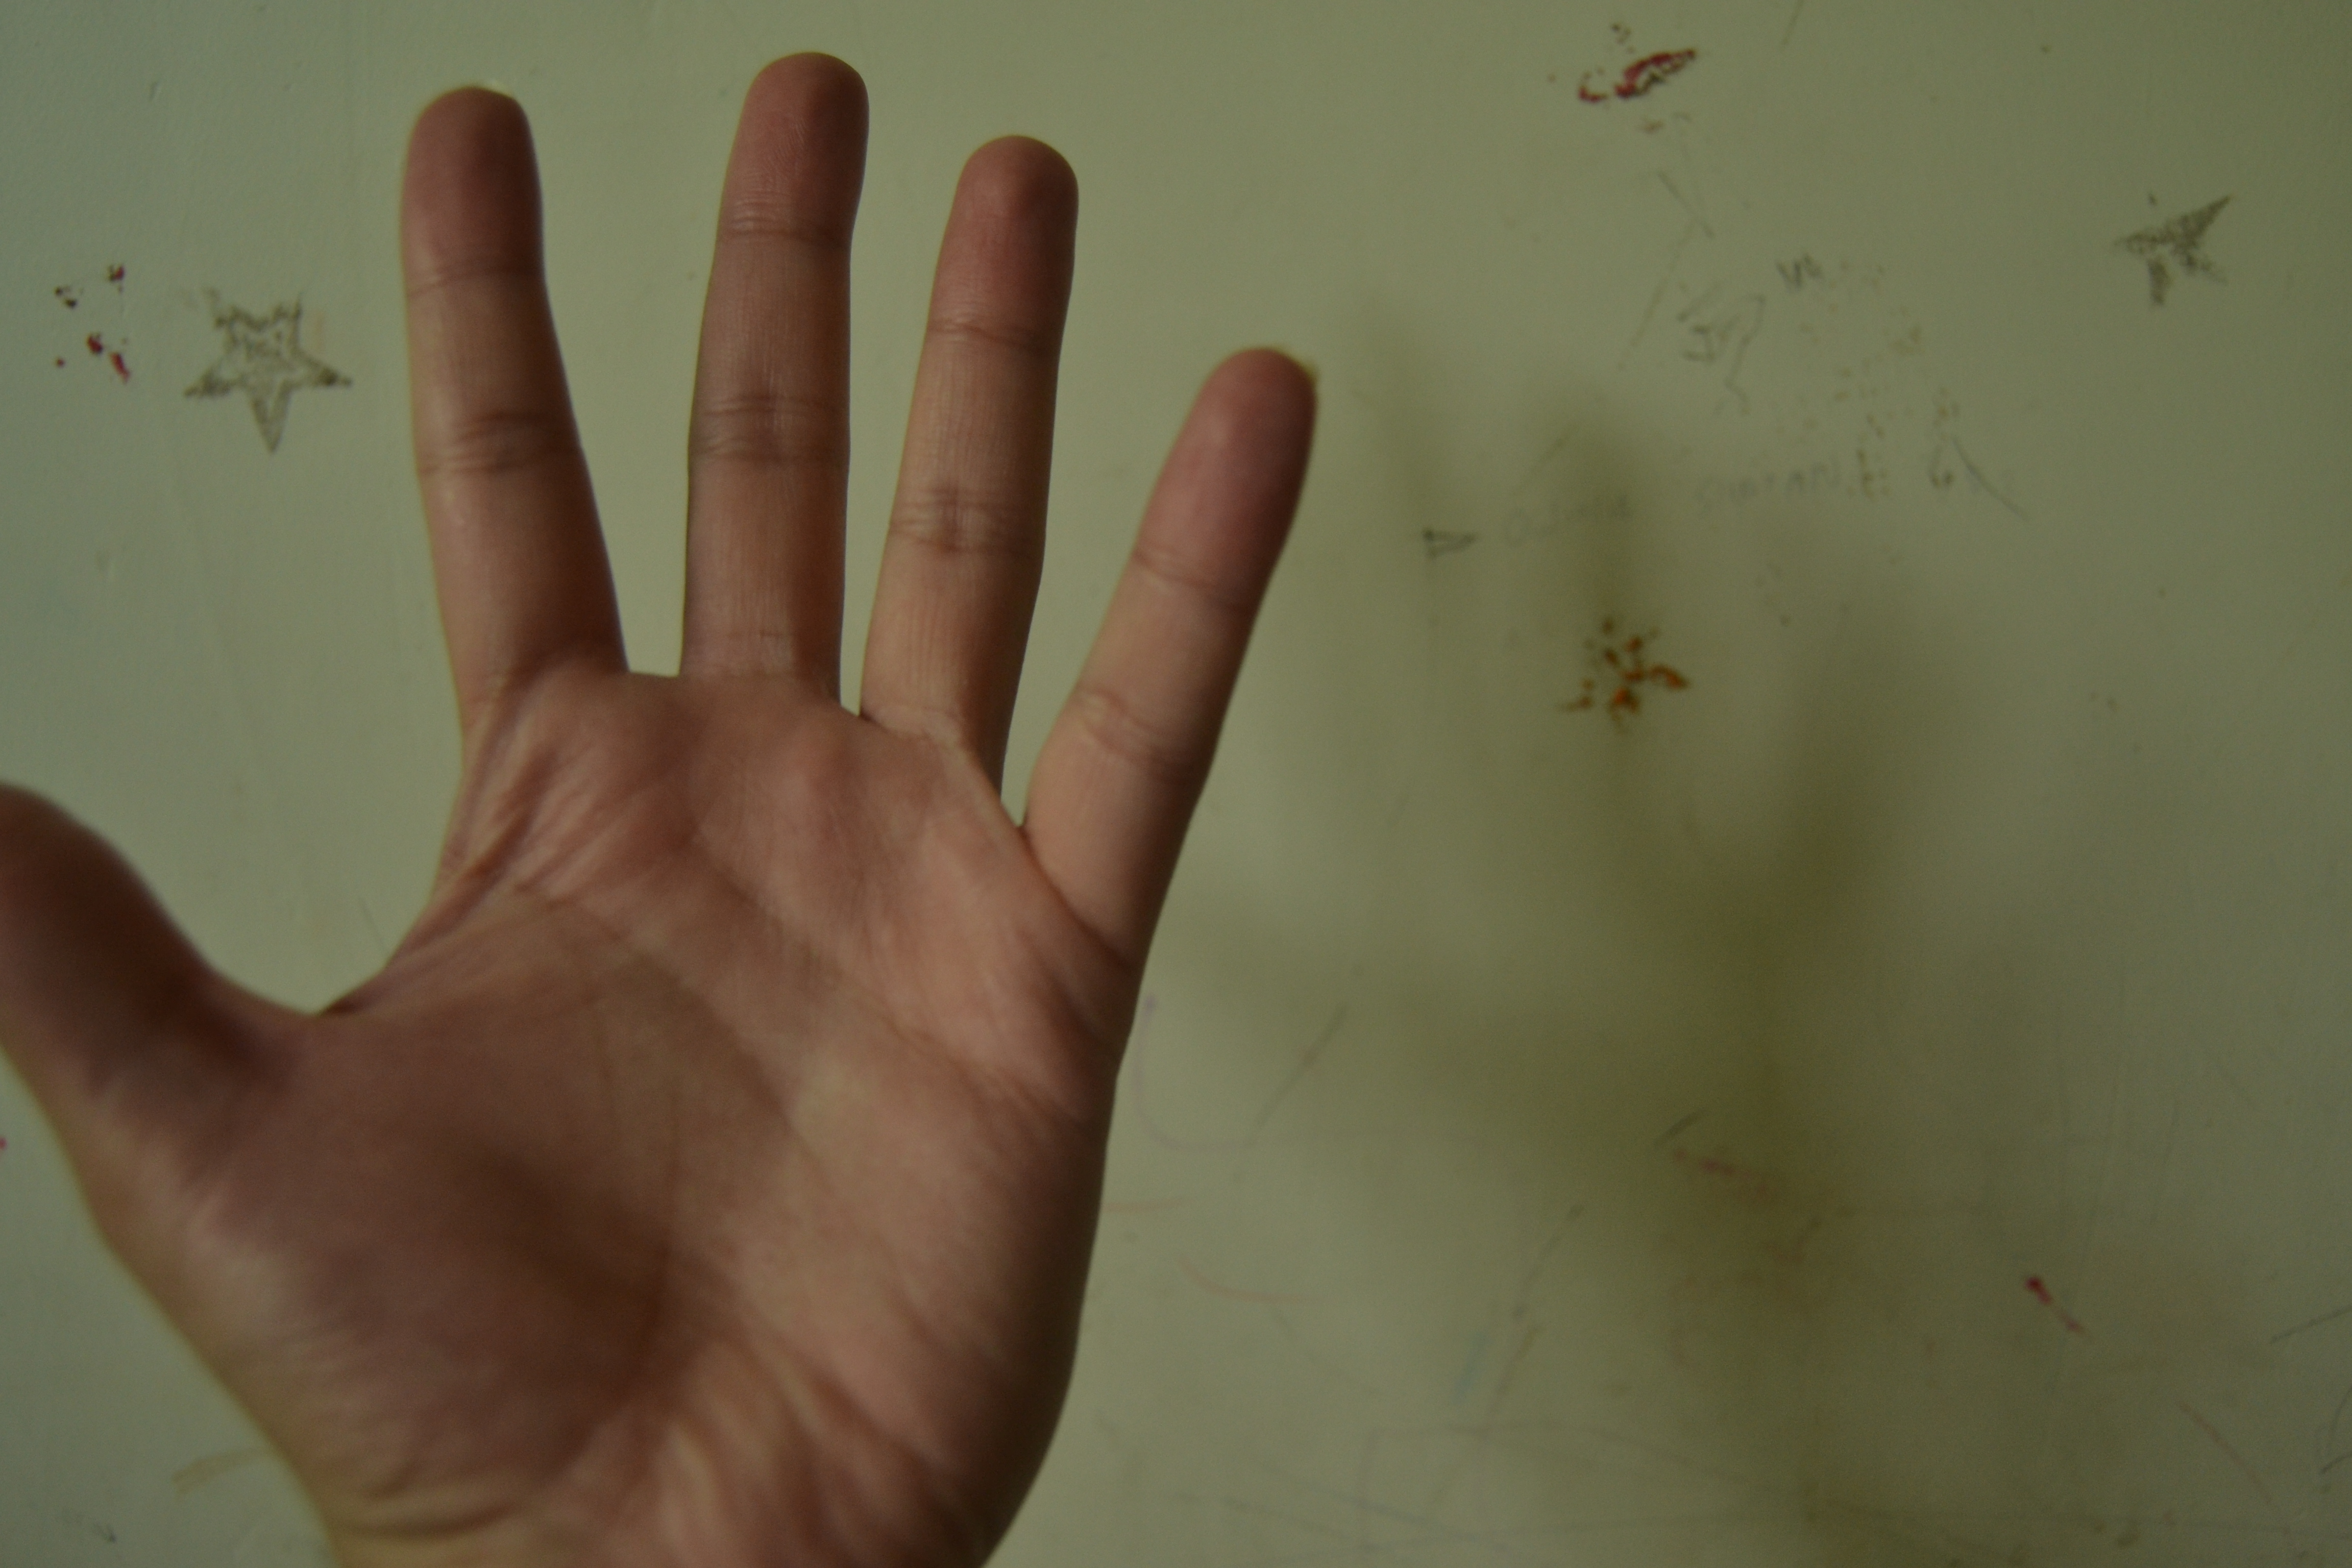move: (0, 42, 1410, 1550)
